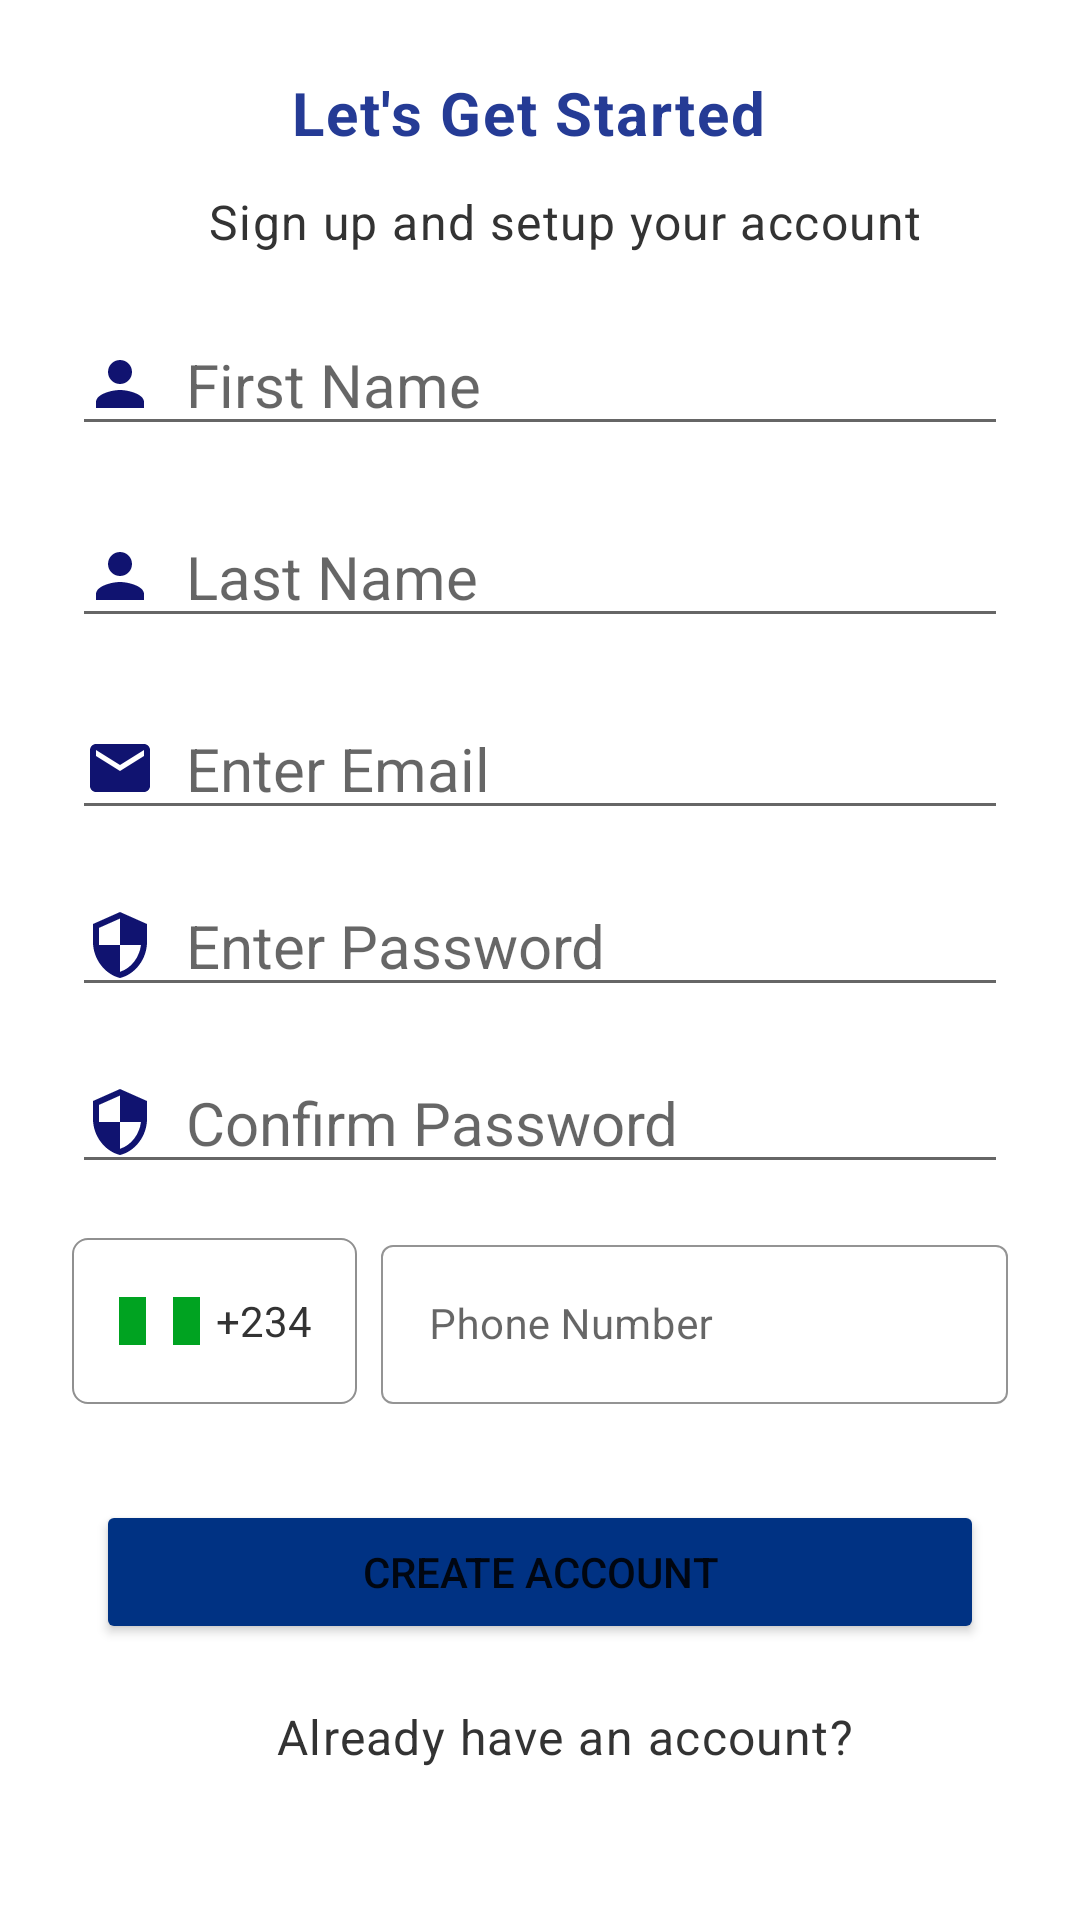

Icon bounding boxes for this 1080x1920 phone screenshot, format [left=x1, top=y1, right=x2, bottom=y2]:
Nigerian flag: [left=119, top=1297, right=200, bottom=1345]
